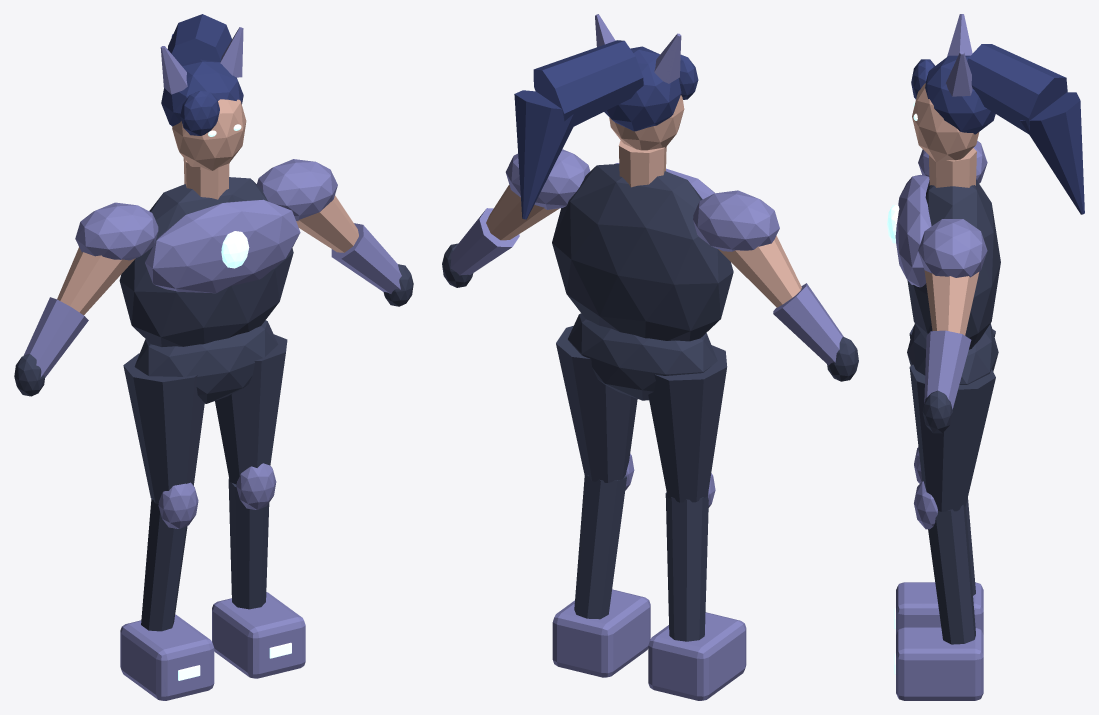
File: SM_Yasuo.fbx
3 renders of one model, left to right at view 1: azimuth 30°, elevation 25°; view 2: azimuth 150°, elevation 25°; view 3: azimuth 270°, elevation 25°, orthographic. The views are drawn at different scales.
Parts seen in each view (by area): view 1: SM_Yasuo; view 2: SM_Yasuo; view 3: SM_Yasuo.
Boxes of the visible parts, left/top/right/bottom form: SM_Yasuo: left=14, top=14, right=413, bottom=700; SM_Yasuo: left=442, top=14, right=858, bottom=700; SM_Yasuo: left=887, top=14, right=1084, bottom=700.
Bounding box in the file's own units: 121 × 51.76 × 183.
